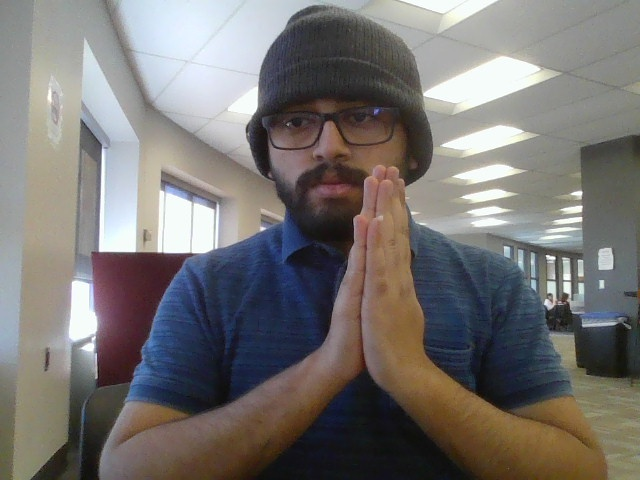start: (322, 160, 440, 412)
